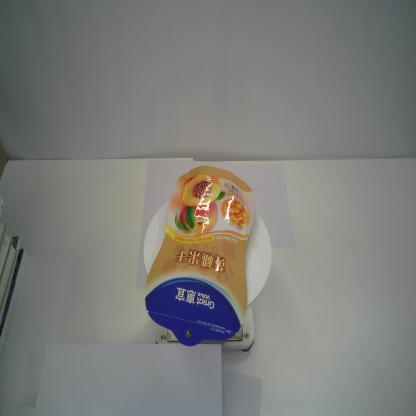Dried Fruit: (144, 166, 255, 345)
